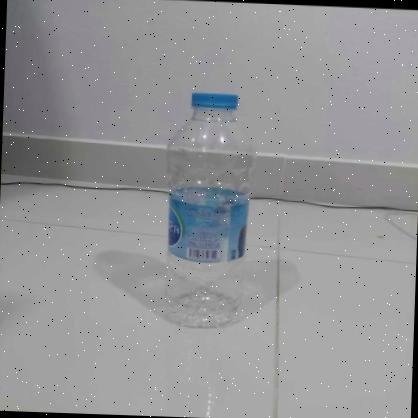bottle: (160, 87, 254, 332)
cap: (188, 90, 238, 114)
label: (167, 186, 249, 264)
